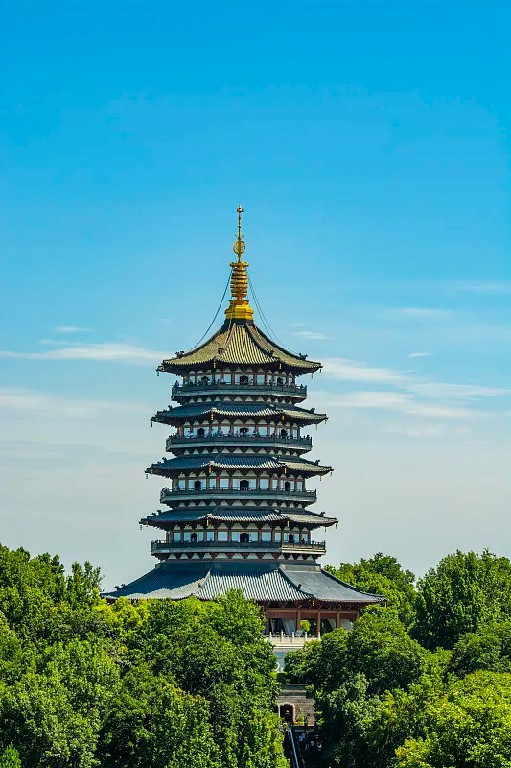Leifeng: (92, 201, 393, 635)
